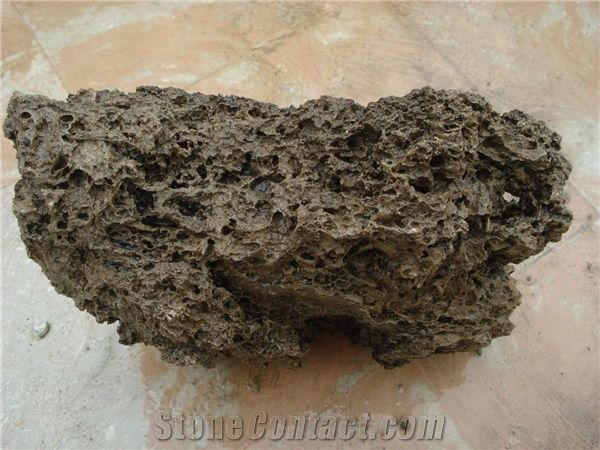volcanic_rock: (4, 74, 573, 374)
